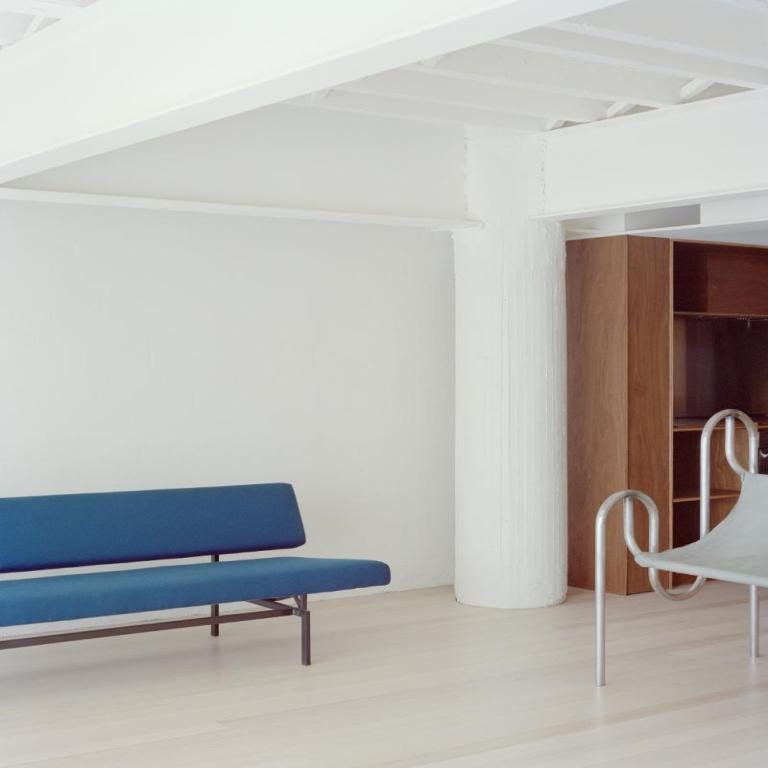white-walls: (19, 218, 426, 543)
